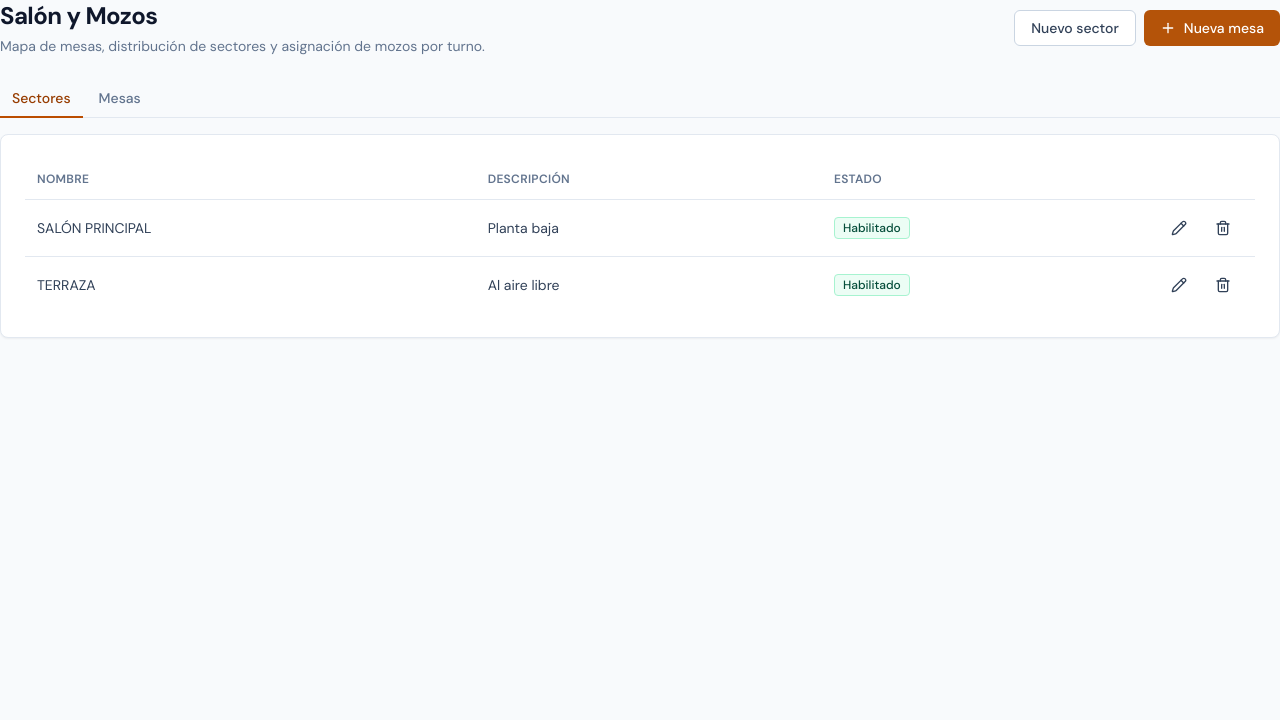
Test: SalonPage: edición de sector: validaciones › con el nombre de otro sector muestra el 409 bajo Nombre (CA 3 de #34)
Click the button named "Editar «Terraza»". click: (1179, 284)
box: [1159,268,1199,300]
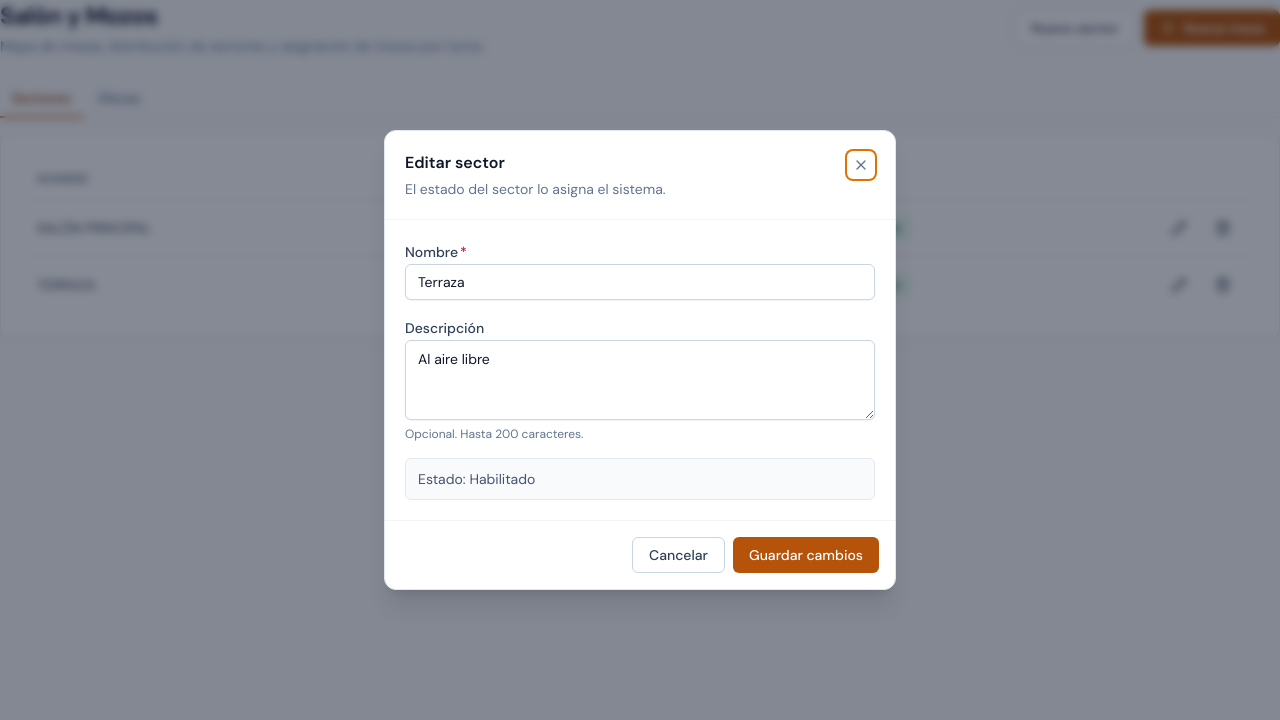
Replace the text in the field labelled "Nombre*" with "Salón principal". click: (640, 282)
box: [405,264,875,300]
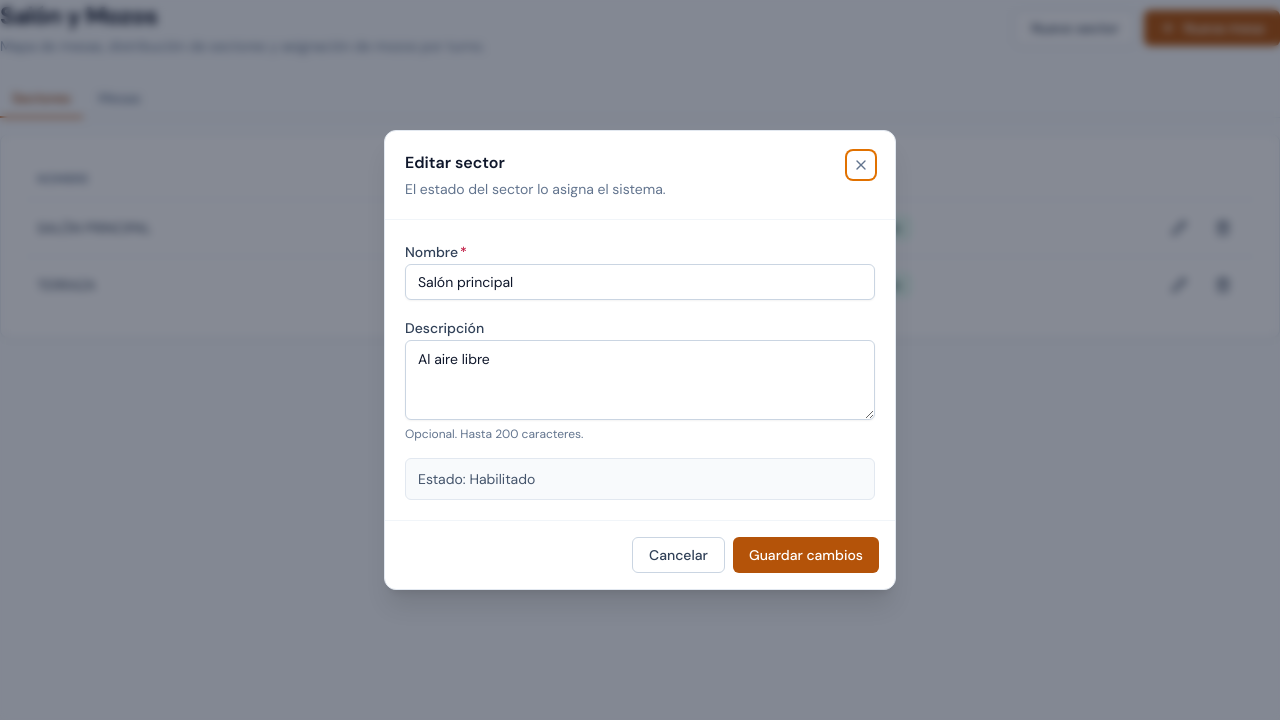
Click the button "Guardar cambios". click: (806, 555)
box: [733,537,879,573]
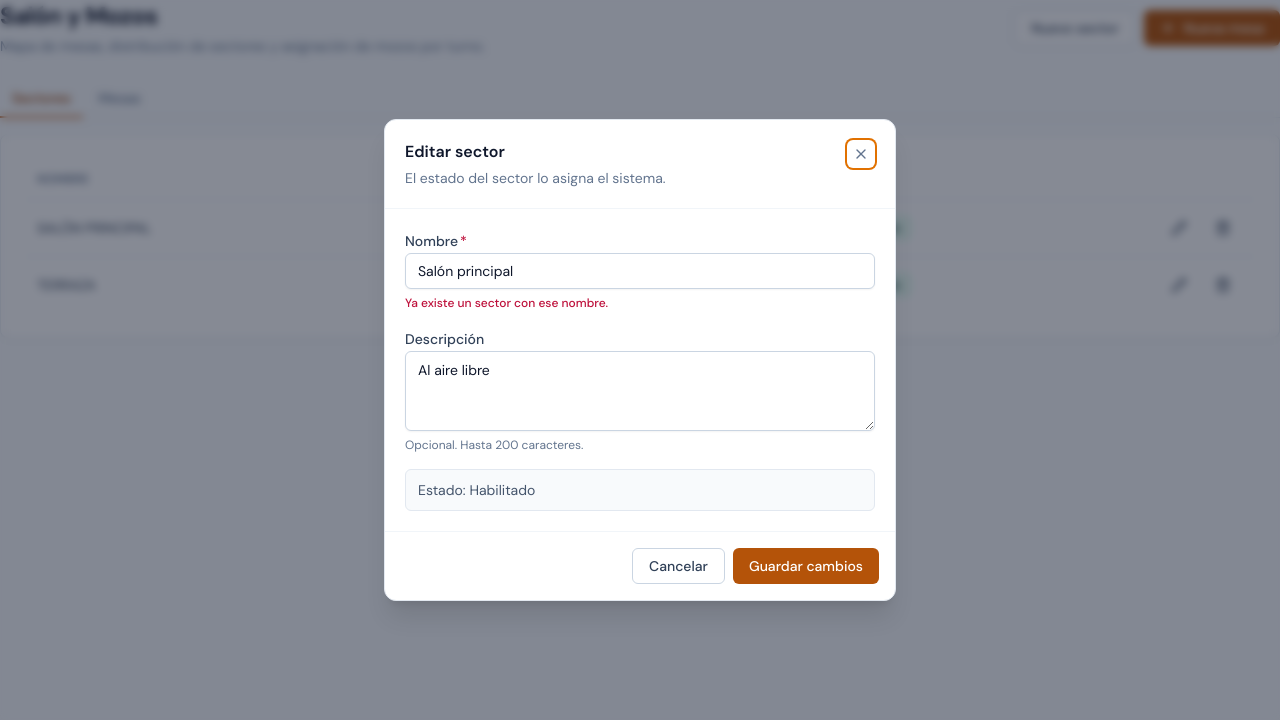
Result: the heading "Editar sector" is shown at [405,141,505,162]
Result: the text "Ya existe un sector con ese nombre." is shown at [405,295,608,311]
